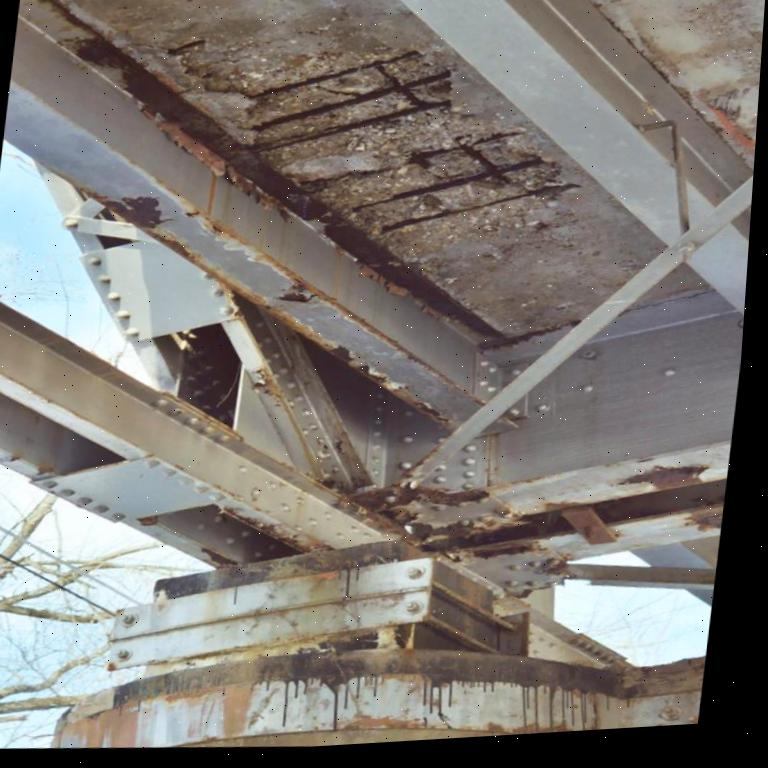exposed_rebar: (247, 48, 451, 135), (346, 132, 545, 214), (378, 185, 581, 233), (169, 39, 204, 55)
spalling: (153, 37, 582, 261)
